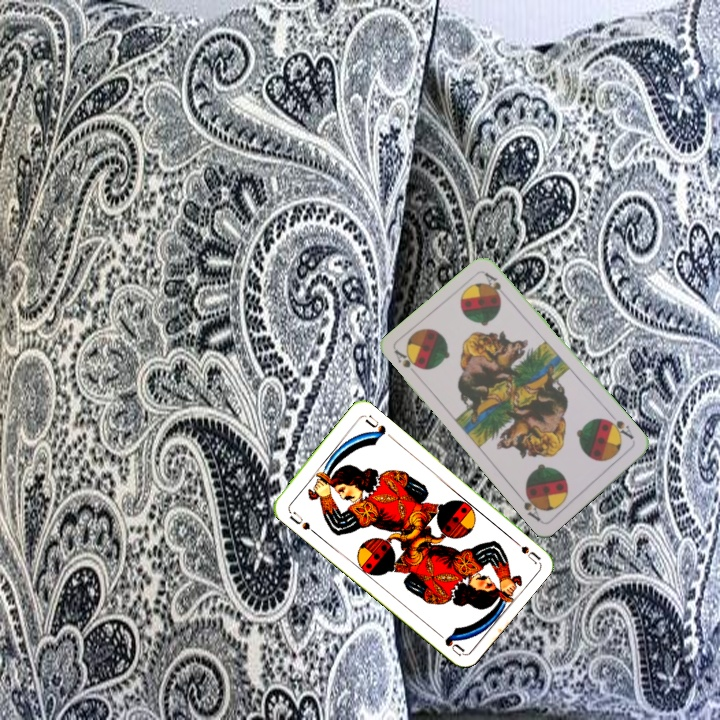SA: (390, 346, 424, 380), (602, 410, 636, 442)
SU: (506, 533, 542, 566), (286, 508, 318, 536)
